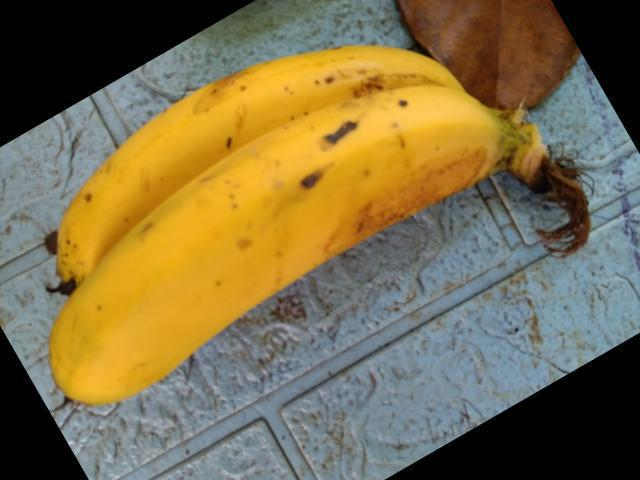ripe: (47, 86, 499, 439)
